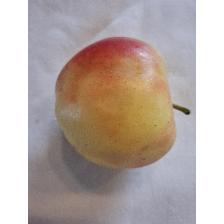Apfel: (54, 34, 192, 172)
